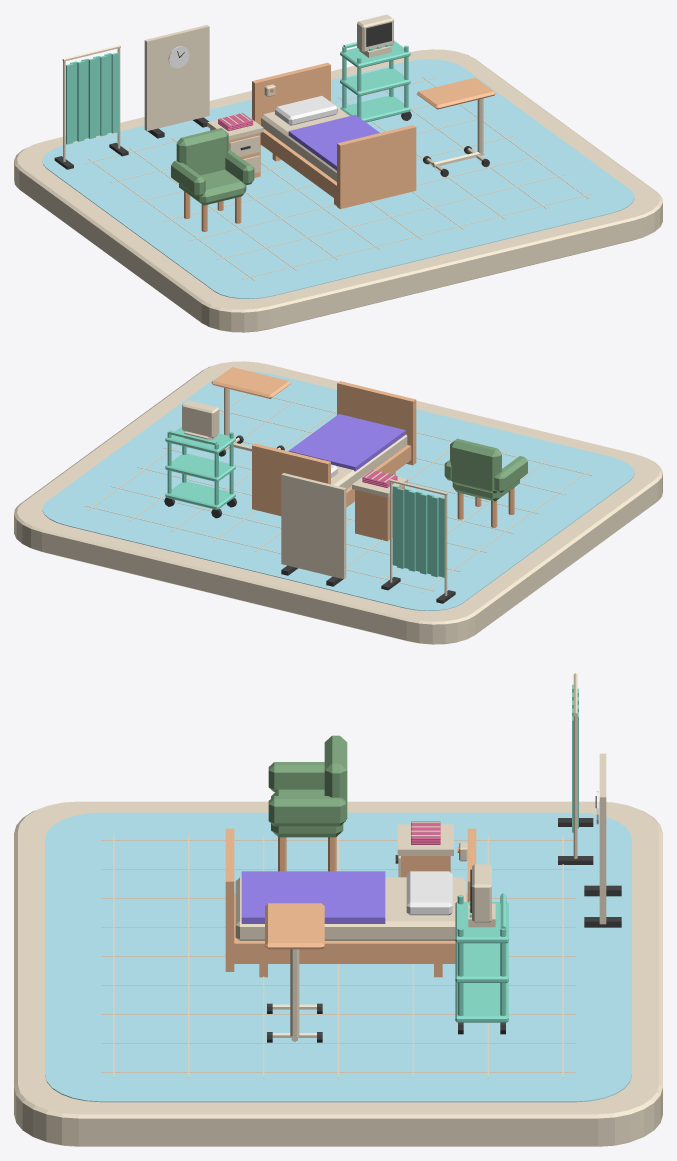
3 views of the same model, one above another, from view 1: azimuth 30°, elevation 25°; view 2: azimuth 150°, elevation 25°; view 3: azimuth 270°, elevation 25° (orthographic). The views are drawn at different scales.
Visible parts, largest first — view 1: COM-02 Floor Surface, COM-01 Rounded Base Direct, Panel, End board, End board.001, Blanket, Back, Mattress, Table top, Frame, Cushion, Pillow (+15 smaller); view 2: COM-02 Floor Surface, COM-01 Rounded Base Direct, Panel, Blanket, End board.001, End board, Back, Body, Table top, Housing, Tray, Tray.001 (+11 smaller); view 3: COM-02 Floor Surface, COM-01 Rounded Base Direct, Blanket, Mattress, Frame, Table top, Arm.001, Pillow, Tray, Tray.001, Arm, Back (+9 smaller).
Part boxes in pixels (x1,y1,x2,y2): COM-02 Floor Surface: (42, 59, 634, 298); COM-01 Rounded Base Direct: (14, 49, 662, 332); Panel: (144, 25, 209, 130); End board: (337, 125, 416, 209); End board.001: (252, 62, 330, 145); Blanket: (288, 115, 379, 170); Back: (176, 128, 228, 175); Mattress: (261, 101, 349, 181); Table top: (417, 77, 495, 109); Frame: (260, 129, 336, 199); Cushion: (179, 169, 246, 205); Pillow: (275, 96, 337, 125); COM-02 Floor Surface: (42, 371, 634, 610); COM-01 Rounded Base Direct: (14, 361, 662, 644); Panel: (281, 473, 346, 579); Blanket: (288, 414, 405, 471); End board.001: (252, 443, 330, 515); End board: (337, 381, 416, 465); Back: (450, 438, 501, 493); Body: (355, 486, 404, 541); Table top: (211, 367, 290, 398); Housing: (182, 400, 219, 437); Tray: (165, 481, 235, 509); Tray.001: (165, 453, 235, 482); COM-02 Floor Surface: (45, 812, 631, 1102); COM-01 Rounded Base Direct: (14, 801, 662, 1146); Blanket: (241, 871, 385, 923); Mattress: (235, 877, 466, 940); Frame: (234, 893, 467, 963); Table top: (265, 903, 324, 949); Arm.001: (268, 796, 345, 826); Pillow: (406, 871, 452, 915); Tray: (455, 982, 508, 1022); Tray.001: (455, 942, 508, 982); Arm: (268, 762, 324, 792); Back: (324, 735, 347, 819).
Bounding box in the file's own units: 6 × 1.63 × 5.2.
Materials: 1 (1 with a texture image).
